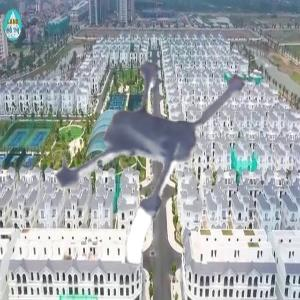drone: (15, 33, 276, 294)
